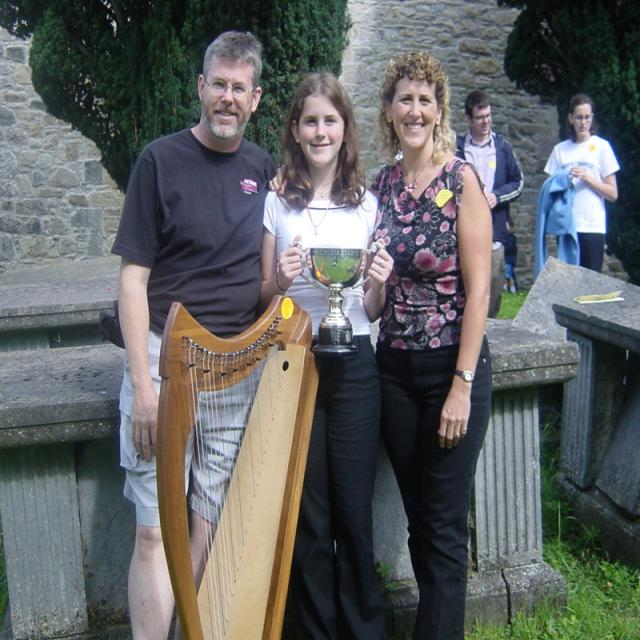harp: (152, 291, 321, 640)
